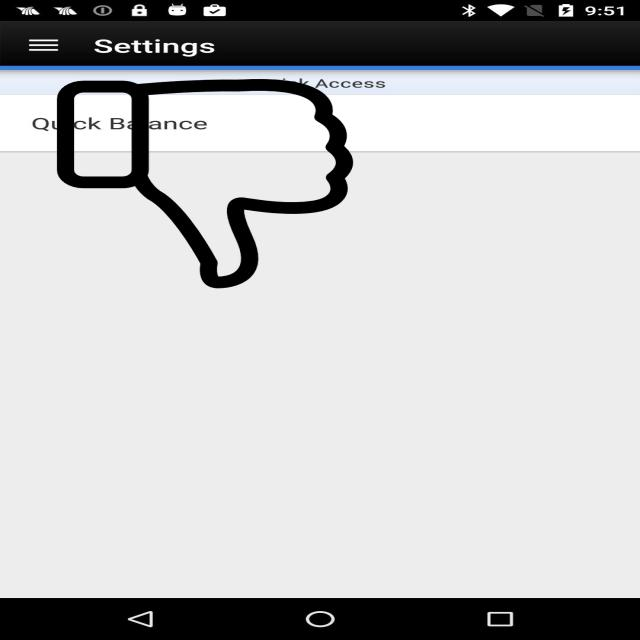obstruction: (53, 79, 357, 288)
